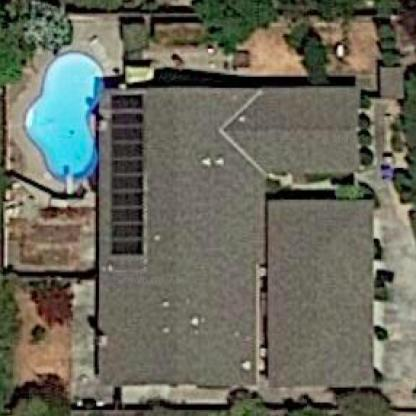solar_panel: (102, 89, 157, 262)
swimming_pool: (12, 28, 108, 193)
